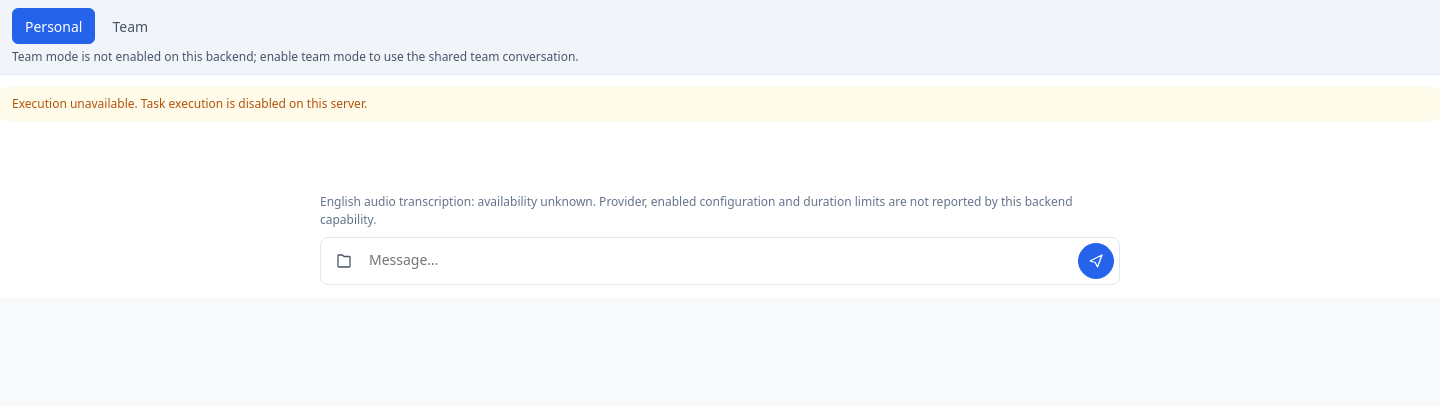
it: LG-013 Chat: real history and sending › keeps the draft and shows the real error when the send fails
The width and height of the screenshot is (1440, 407).
Type "keep me" into the text box named "Message for Global" at [720, 261], box [320,237,1120,285]
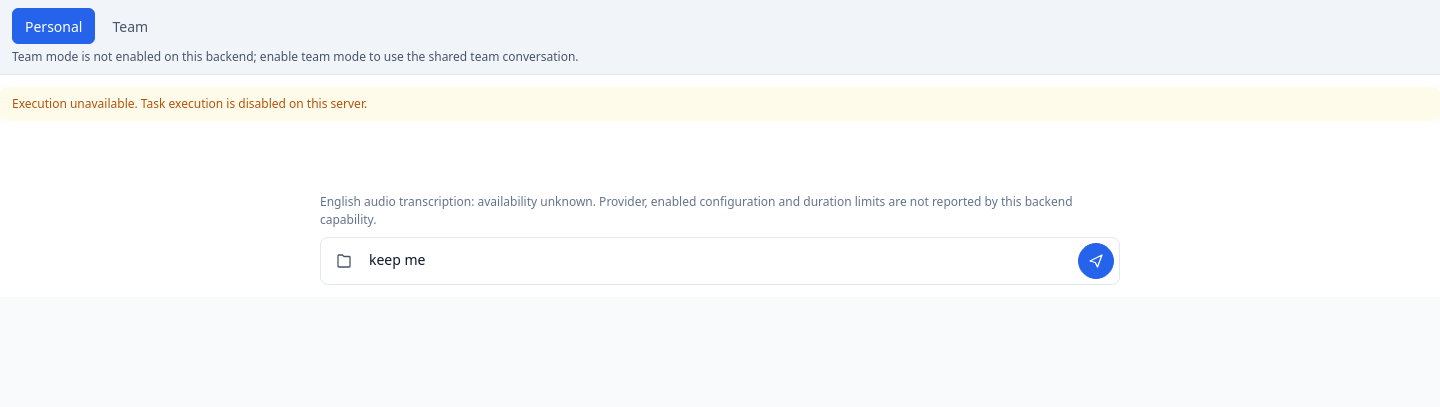
Press Enter in the text box named "Message for Global", box [320,237,1120,285]
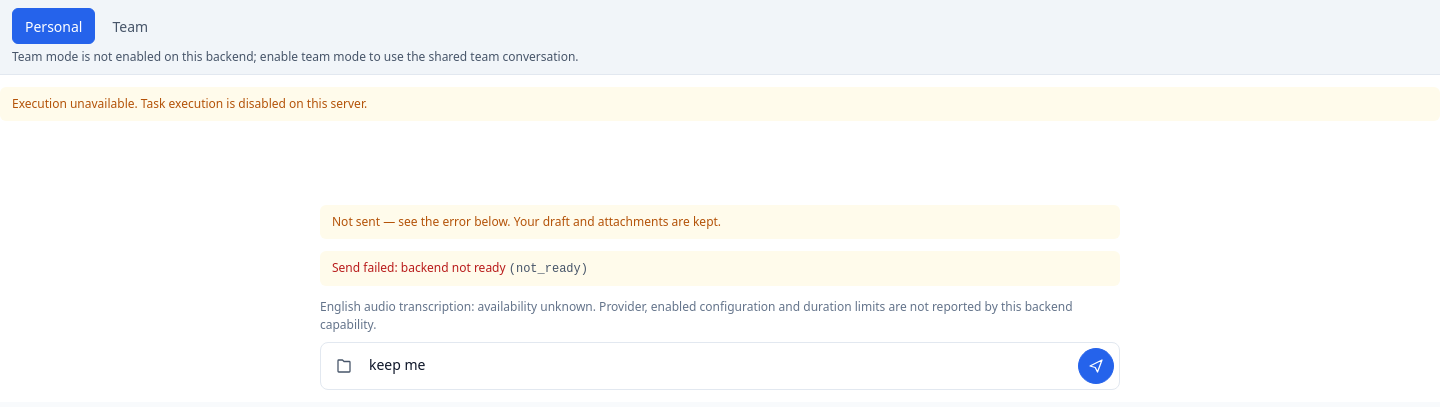
Result: the text "Send failed: backend not ready (not_ready)" is shown at [320,251,1120,286]
